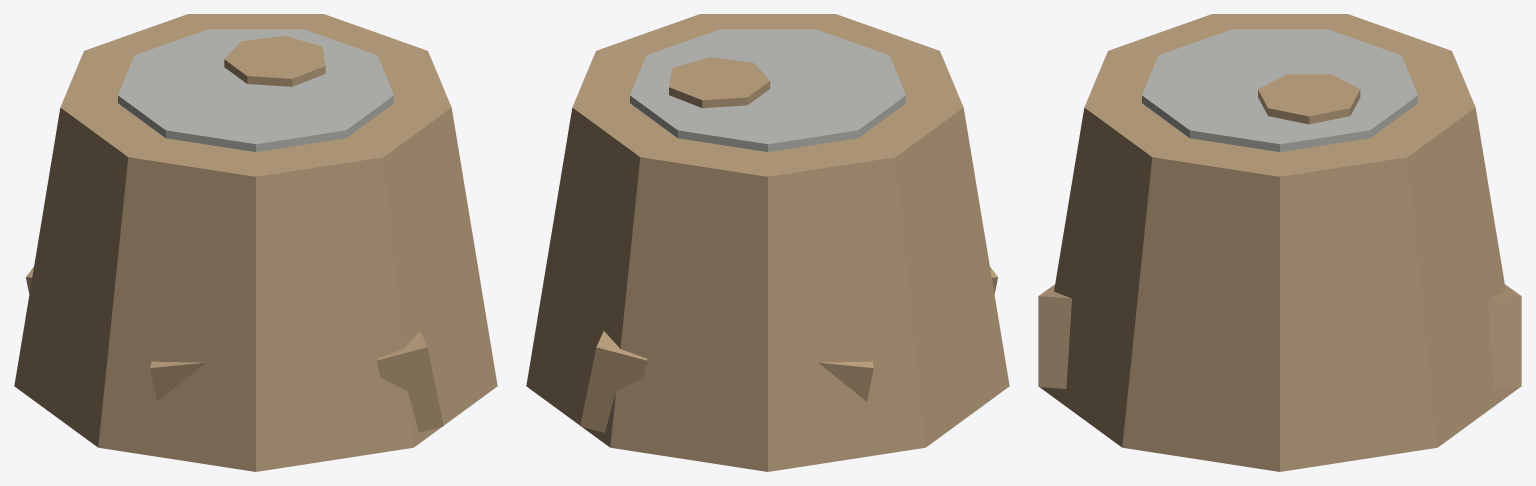
File: wipe-day-survival-island-tree-stump-8a1f9d3f__27430.glb
The picture shows the model from 3 angles, left to right: view 1: azimuth 30°, elevation 25°; view 2: azimuth 150°, elevation 25°; view 3: azimuth 270°, elevation 25°; orthographic projection.
Visible parts, largest first — view 1: tree-stump; view 2: tree-stump; view 3: tree-stump.
Boxes of the visible parts, x1,y1,x2,y2 form: tree-stump: (14, 14, 497, 471); tree-stump: (526, 14, 1009, 471); tree-stump: (1038, 14, 1521, 471).
Bounding box in the file's own units: 0.8147 × 0.55 × 0.8272.
